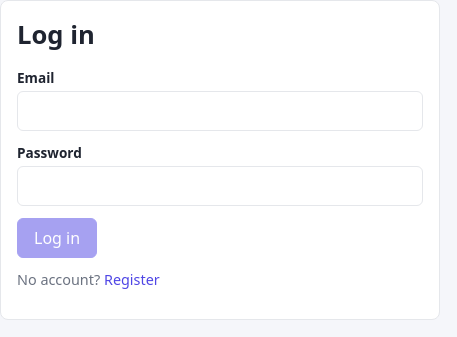
Test: LoginComponent › disables submit until the form is valid
The width and height of the screenshot is (457, 337).
Expected: the submit button is disabled, [17,218,97,258]
Type "user@example.com" into the field with id "email" at (220, 111), box [17,91,423,131]
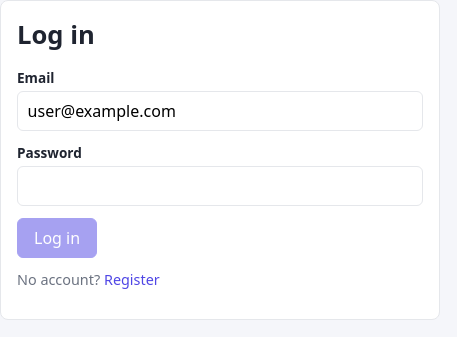
Type "secret123" into the password field labelled "Password" at (220, 186), box [17,166,423,206]
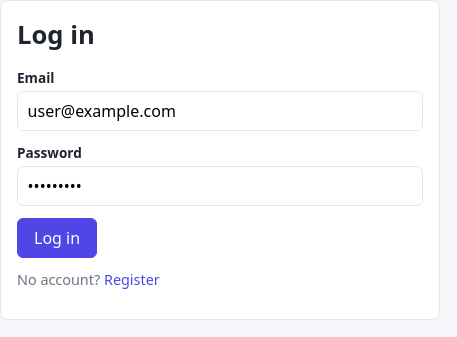
Result: the submit button is enabled at [17,218,97,258]
